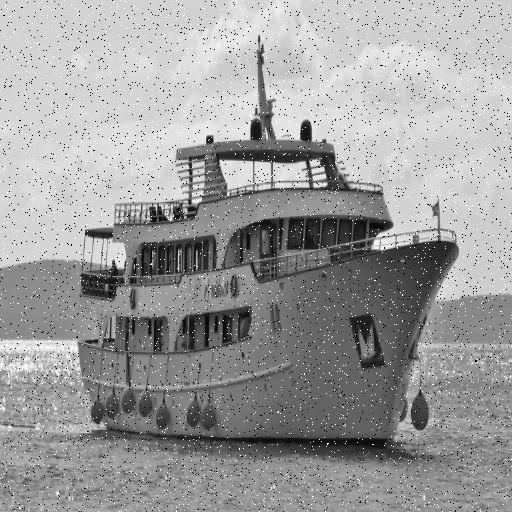cruises: (73, 34, 463, 460)
